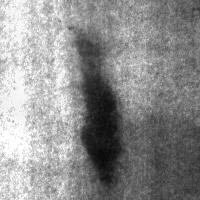patches: (0, 0, 112, 114), (73, 113, 200, 200), (73, 74, 124, 186), (66, 24, 103, 82)
